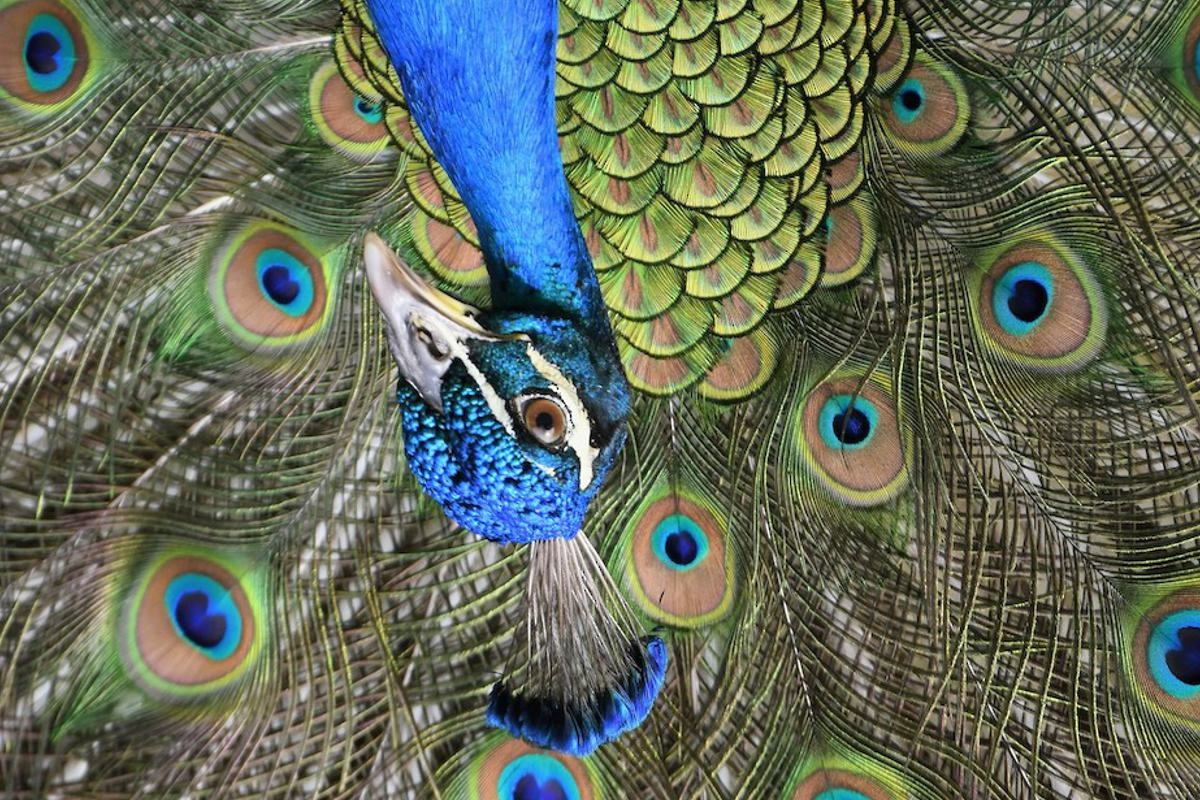peacock: (1, 1, 1124, 720)
